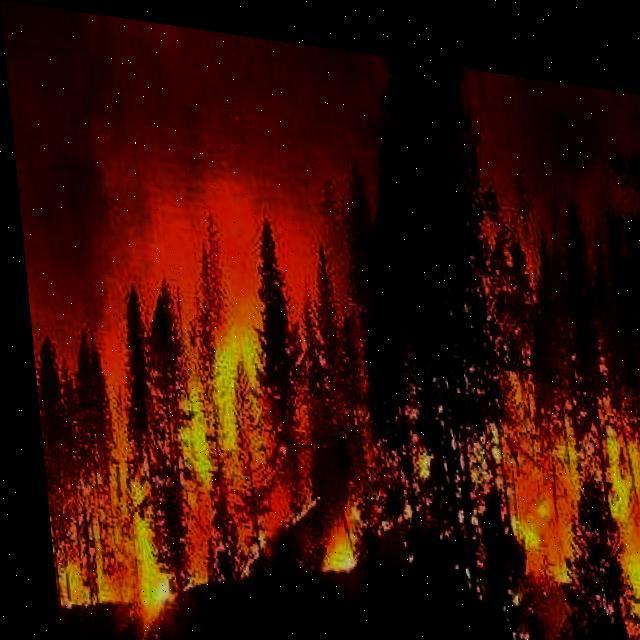Fire: (26, 258, 355, 639), (402, 321, 639, 639)
